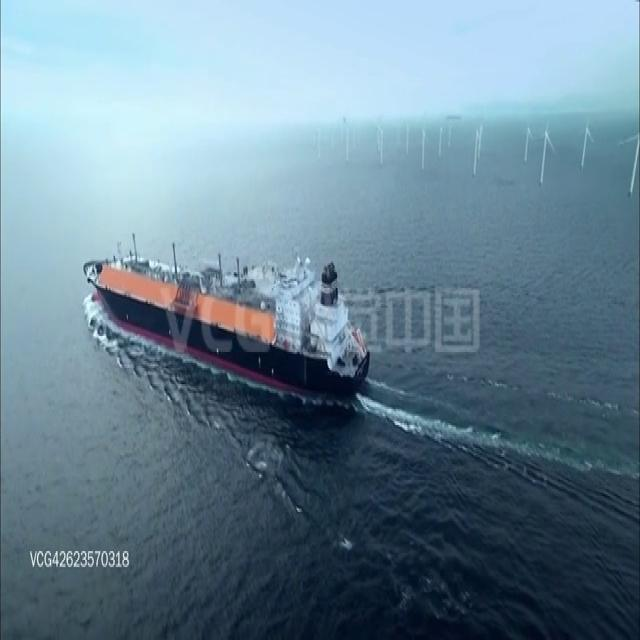cargoship: (86, 230, 369, 401)
